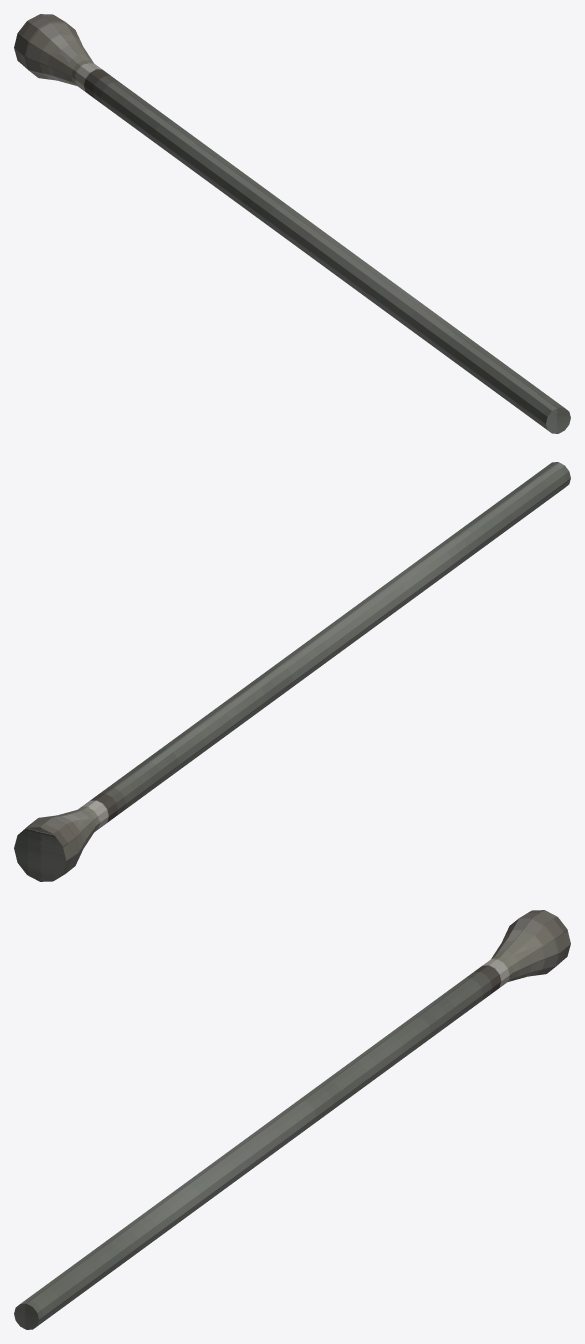
The model's file is pz_street_pole_16.obj.
The picture shows the model from 3 angles, top to bottom: view 1: azimuth 30°, elevation 25°; view 2: azimuth 150°, elevation 25°; view 3: azimuth 330°, elevation 25°; orthographic projection.
Parts seen in each view (by area): view 1: pz_street_pole_16_|_tapered_native_street_pole; view 2: pz_street_pole_16_|_tapered_native_street_pole; view 3: pz_street_pole_16_|_tapered_native_street_pole.
Part boxes in pixels (box(x1,y1,x2,y2)): pz_street_pole_16_|_tapered_native_street_pole: box(14, 14, 570, 433); pz_street_pole_16_|_tapered_native_street_pole: box(14, 462, 570, 881); pz_street_pole_16_|_tapered_native_street_pole: box(14, 910, 570, 1329).
Size of the model in its own units: 0.148 by 0.148 by 2.43.
Materials: 1 (1 with a texture image).
